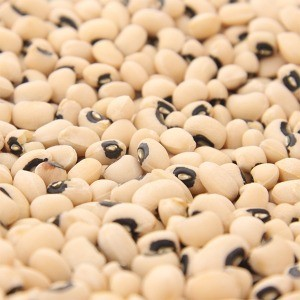beans_brain food: (65, 79, 227, 224)
